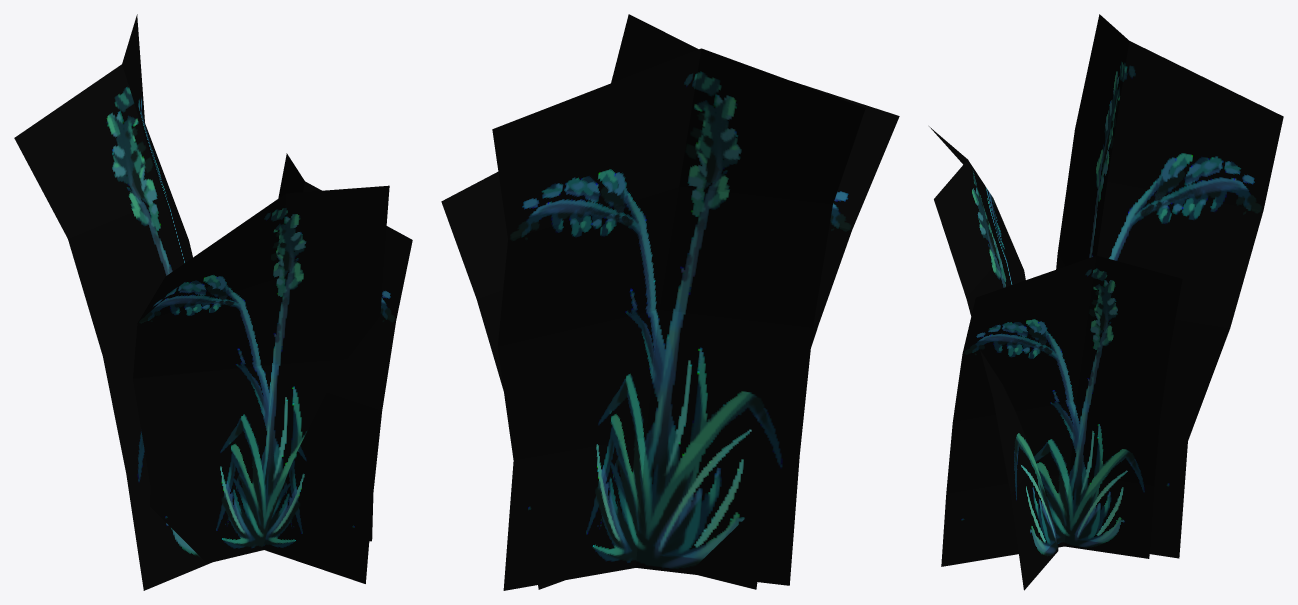
The model's file is grass tall.fbx.
The picture shows the model from 3 angles, left to right: view 1: azimuth 30°, elevation 25°; view 2: azimuth 150°, elevation 25°; view 3: azimuth 270°, elevation 25°; orthographic projection. The views are drawn at different scales.
Visible parts, largest first — view 1: Plane.012; view 2: Plane.012; view 3: Plane.012.
Boxes of the visible parts, <box> form: Plane.012: <box>14,14,412,590</box>; Plane.012: <box>441,14,899,590</box>; Plane.012: <box>929,14,1283,590</box>.
Size of the model in its own units: 90.12 by 125 by 87.52.
